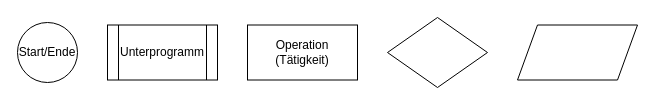
This 655x105 diagram has some shape labels left out. Here are the shapes that lost their labels. From the top down, the centre of each, then its label:
At pixel 437 52: "Verzweigung If/Else".
At pixel 577 52: "Input / Output".
